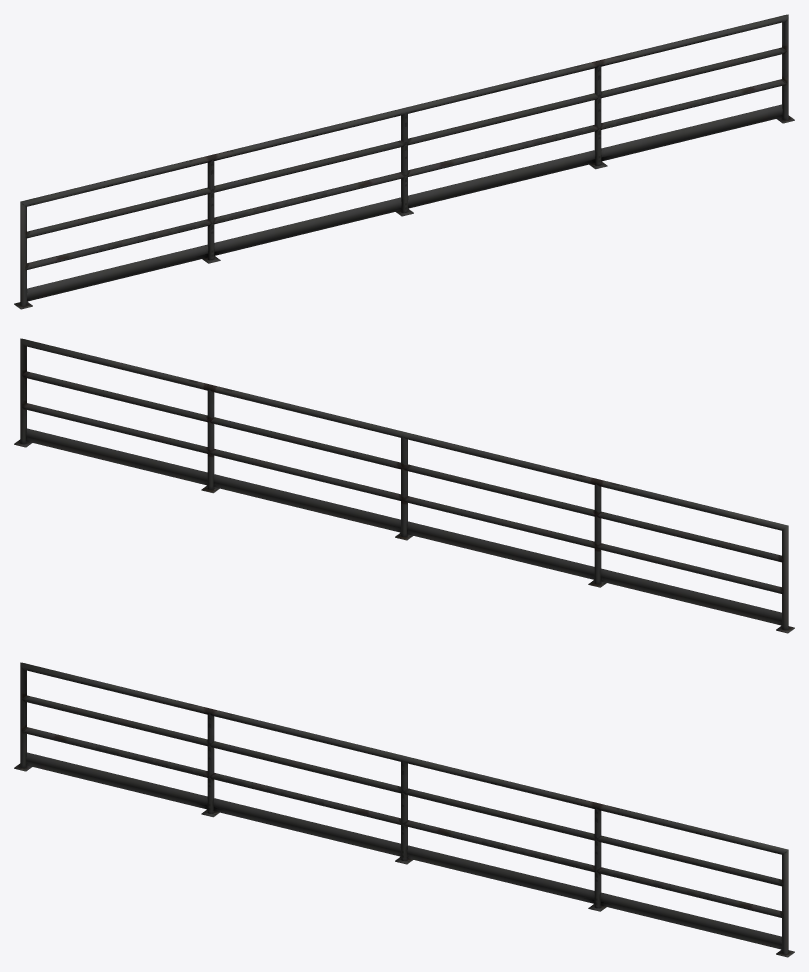
3 views of the same model, one above another, from view 1: azimuth 30°, elevation 25°; view 2: azimuth 150°, elevation 25°; view 3: azimuth 330°, elevation 25° (orthographic).
Visible parts, largest first — view 1: body0_model0_lod0_mesh0; view 2: body0_model0_lod0_mesh0; view 3: body0_model0_lod0_mesh0.
Part boxes in pixels (box(x1,y1,x2,y2)): body0_model0_lod0_mesh0: box(14, 14, 794, 309); body0_model0_lod0_mesh0: box(14, 338, 794, 633); body0_model0_lod0_mesh0: box(14, 662, 794, 957).
Bounding box in the file's own units: 256 × 33 × 4.
Materials: 1 (1 with a texture image).
